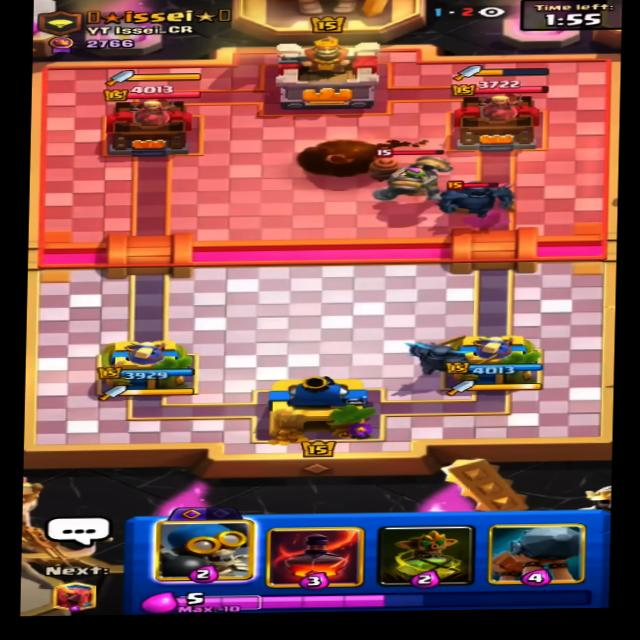goblin-machine: (344, 140, 452, 208)
pekka: (427, 173, 524, 220)
